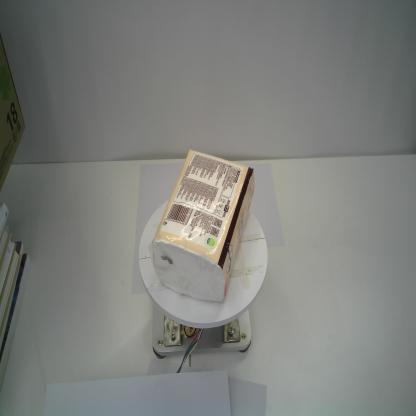Tissue: (152, 148, 255, 300)
